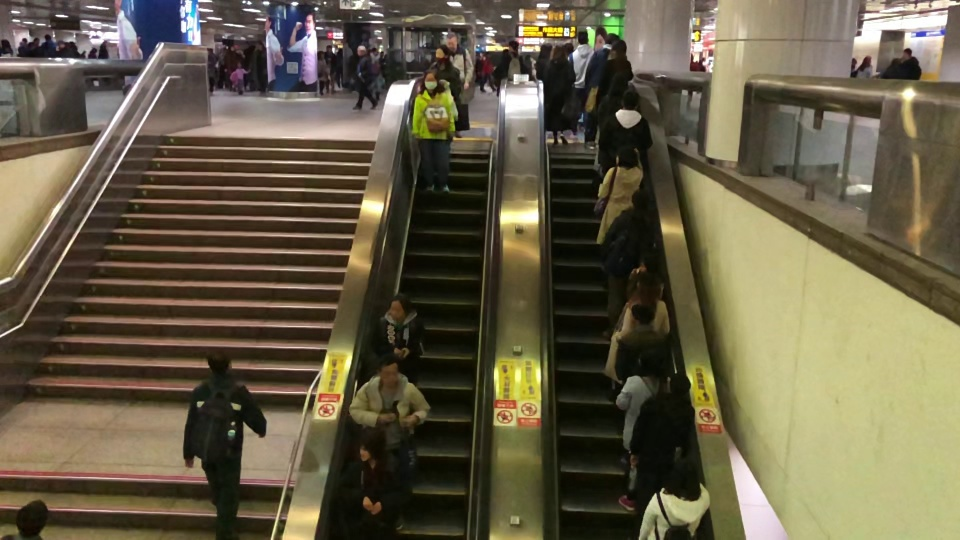person_head: (663, 455, 700, 494), (14, 498, 48, 540), (358, 425, 386, 462), (376, 353, 399, 386), (636, 270, 663, 298), (205, 348, 233, 374), (388, 292, 412, 321), (638, 348, 661, 377), (668, 372, 691, 398), (638, 247, 660, 272), (607, 71, 629, 95), (614, 145, 637, 167), (619, 89, 641, 111), (631, 189, 650, 211), (609, 39, 628, 59), (422, 69, 438, 91), (434, 44, 450, 63), (444, 30, 458, 51), (537, 42, 553, 60), (605, 33, 620, 47), (552, 45, 566, 60), (577, 30, 589, 45), (562, 41, 574, 56), (508, 39, 519, 53), (890, 57, 901, 68), (356, 44, 366, 56), (861, 55, 871, 66), (902, 48, 912, 59), (501, 49, 510, 61), (256, 39, 264, 51), (317, 50, 325, 61), (0, 39, 10, 47), (850, 58, 857, 69), (383, 54, 392, 62), (325, 45, 332, 54), (371, 46, 378, 55), (33, 37, 40, 45), (43, 34, 51, 41), (58, 41, 65, 49), (228, 43, 235, 51), (235, 61, 242, 69), (336, 48, 343, 56), (207, 46, 213, 55), (100, 40, 107, 47), (483, 51, 490, 58), (221, 46, 227, 54), (90, 47, 97, 53), (690, 52, 694, 62), (708, 49, 713, 57), (21, 38, 27, 44), (379, 51, 384, 57)
person_vbox: (181, 348, 267, 540), (347, 353, 431, 531), (628, 372, 696, 537), (613, 270, 670, 437), (614, 347, 671, 511), (336, 425, 414, 540), (599, 189, 657, 341), (637, 455, 711, 540), (370, 292, 431, 387), (411, 69, 456, 194), (590, 71, 629, 202), (593, 145, 644, 245), (598, 89, 653, 176), (582, 32, 621, 150), (542, 45, 576, 146), (444, 30, 474, 138), (567, 30, 594, 135), (595, 39, 634, 107), (427, 44, 462, 106), (625, 247, 664, 300), (351, 44, 378, 111), (497, 39, 529, 81), (248, 39, 267, 96), (529, 42, 553, 81), (491, 49, 510, 97), (381, 54, 404, 91), (223, 43, 240, 91), (478, 51, 496, 93), (901, 48, 921, 80), (688, 52, 700, 103), (317, 50, 330, 96), (324, 45, 336, 94), (235, 61, 251, 95), (207, 46, 217, 96), (97, 39, 109, 80), (217, 46, 228, 90), (880, 57, 902, 79), (855, 55, 872, 79), (87, 47, 98, 81), (55, 41, 75, 58), (41, 34, 55, 57), (335, 48, 343, 88), (702, 49, 713, 72), (0, 39, 14, 57), (28, 37, 40, 57), (17, 38, 28, 57), (370, 46, 381, 64), (378, 51, 384, 64)
